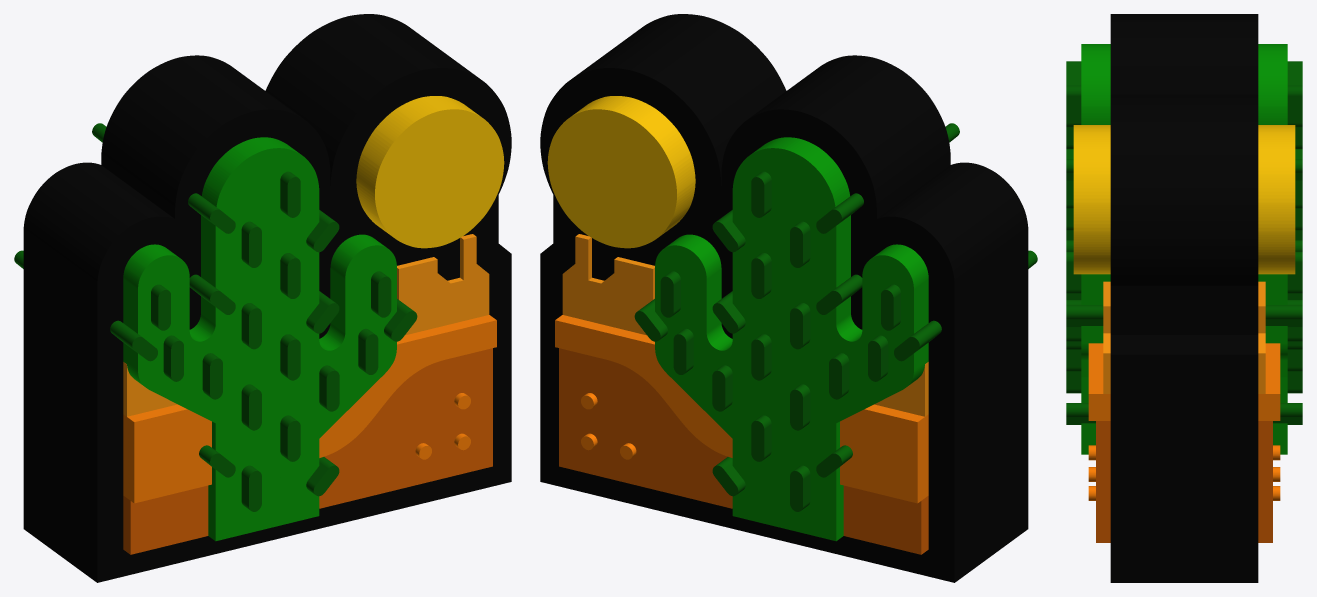
3 views of the same model, side by side, from view 1: azimuth 30°, elevation 25°; view 2: azimuth 150°, elevation 25°; view 3: azimuth 270°, elevation 25° (orthographic).
Visible parts, largest first — view 1: U+1F3DC_layer00_obj00, U+1F3DC_layer04_obj00, U+1F3DC_layer02_obj00, U+1F3DC_layer06_obj00, U+1F3DC_layer05_obj00, U+1F3DC_layer03_obj00, U+1F3DC_layer01_obj00; view 2: U+1F3DC_layer00_obj00, U+1F3DC_layer04_obj00, U+1F3DC_layer02_obj00, U+1F3DC_layer06_obj00, U+1F3DC_layer05_obj00, U+1F3DC_layer03_obj00, U+1F3DC_layer01_obj00; view 3: U+1F3DC_layer00_obj00, U+1F3DC_layer05_obj00, U+1F3DC_layer06_obj00, U+1F3DC_layer04_obj00, U+1F3DC_layer02_obj00, U+1F3DC_layer03_obj00, U+1F3DC_layer01_obj00.
Boxes of the visible parts, <box> form: U+1F3DC_layer00_obj00: <box>23,14,511,582</box>; U+1F3DC_layer04_obj00: <box>123,137,396,541</box>; U+1F3DC_layer02_obj00: <box>123,348,492,554</box>; U+1F3DC_layer06_obj00: <box>14,123,417,511</box>; U+1F3DC_layer05_obj00: <box>356,96,504,248</box>; U+1F3DC_layer03_obj00: <box>123,315,496,503</box>; U+1F3DC_layer01_obj00: <box>123,234,489,416</box>; U+1F3DC_layer00_obj00: <box>540,14,1028,582</box>; U+1F3DC_layer04_obj00: <box>655,137,928,541</box>; U+1F3DC_layer02_obj00: <box>559,348,928,554</box>; U+1F3DC_layer06_obj00: <box>634,123,1037,511</box>; U+1F3DC_layer05_obj00: <box>547,96,695,248</box>; U+1F3DC_layer03_obj00: <box>555,315,928,503</box>; U+1F3DC_layer01_obj00: <box>562,234,928,416</box>; U+1F3DC_layer00_obj00: <box>1110,14,1258,582</box>; U+1F3DC_layer05_obj00: <box>1073,125,1295,274</box>; U+1F3DC_layer06_obj00: <box>1066,61,1302,424</box>; U+1F3DC_layer04_obj00: <box>1081,44,1287,454</box>; U+1F3DC_layer02_obj00: <box>1096,421,1272,542</box>; U+1F3DC_layer03_obj00: <box>1088,343,1280,500</box>; U+1F3DC_layer01_obj00: <box>1103,281,1265,393</box>.
Bounding box in the file's own units: 0.6491 × 0.649 × 0.32.
